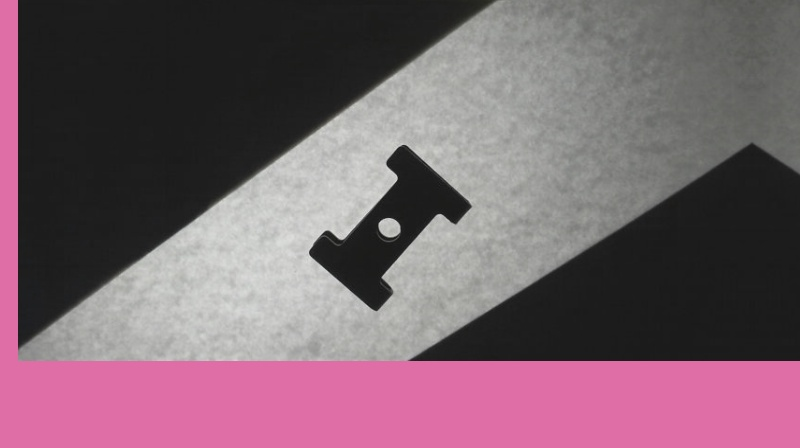O002: (305, 141, 475, 313)
